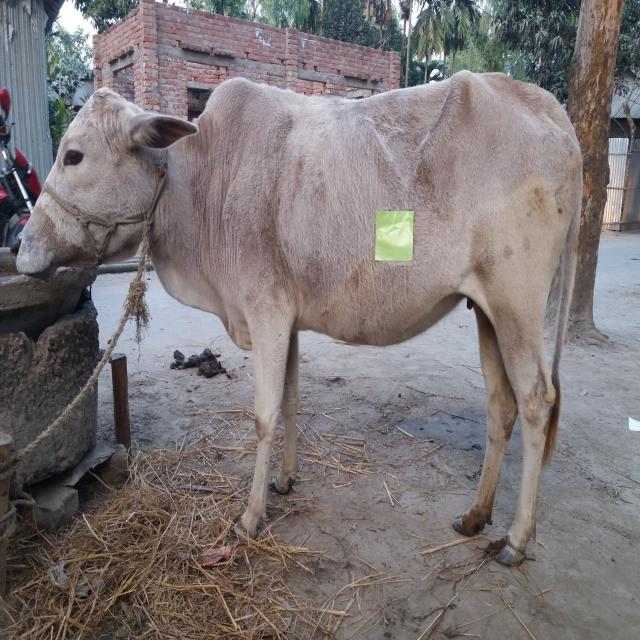badan_sapi: (234, 75, 578, 350)
sapi: (4, 58, 594, 572)
